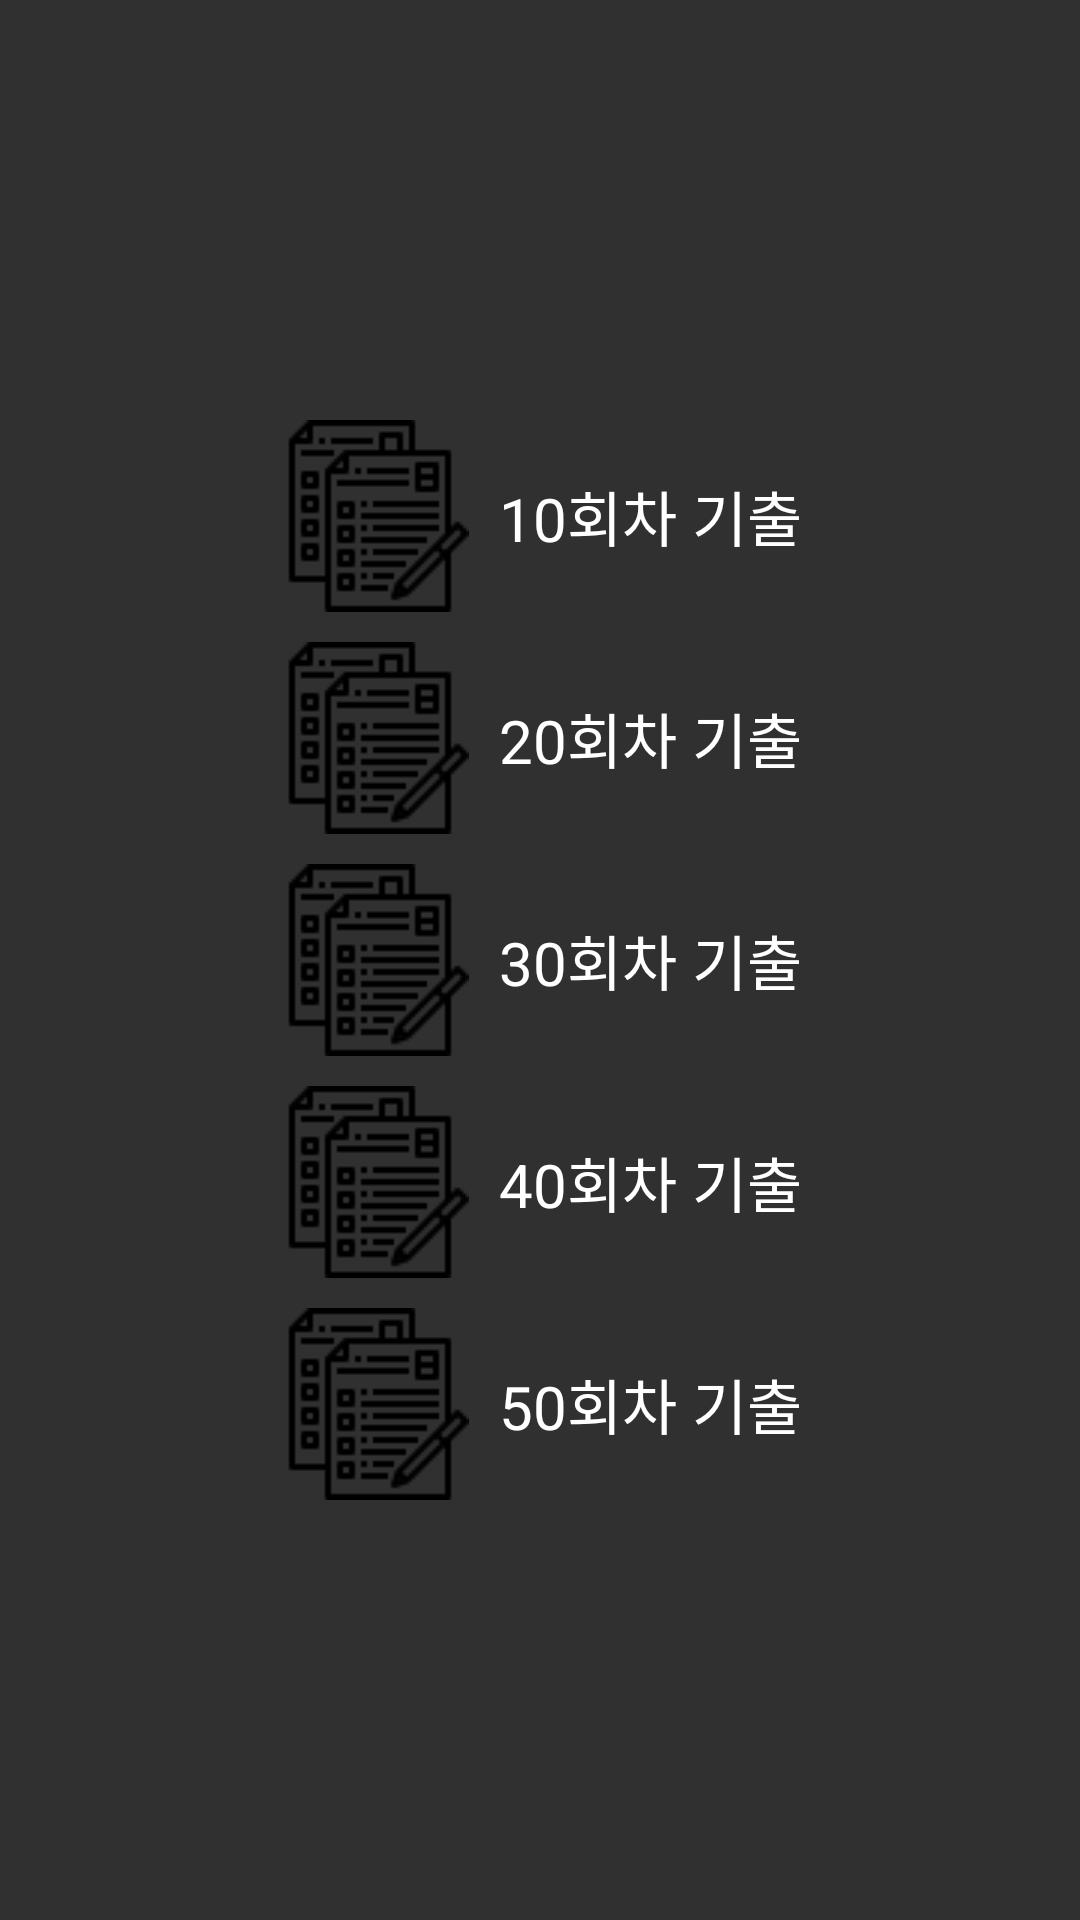

Locate icon controls on the screen. Image size 1080×1920, boxes as (x1, y1, x2, y2).
exam: (289, 420, 469, 612), (289, 642, 469, 834), (289, 864, 469, 1056), (289, 1086, 469, 1278), (289, 1308, 469, 1500)
